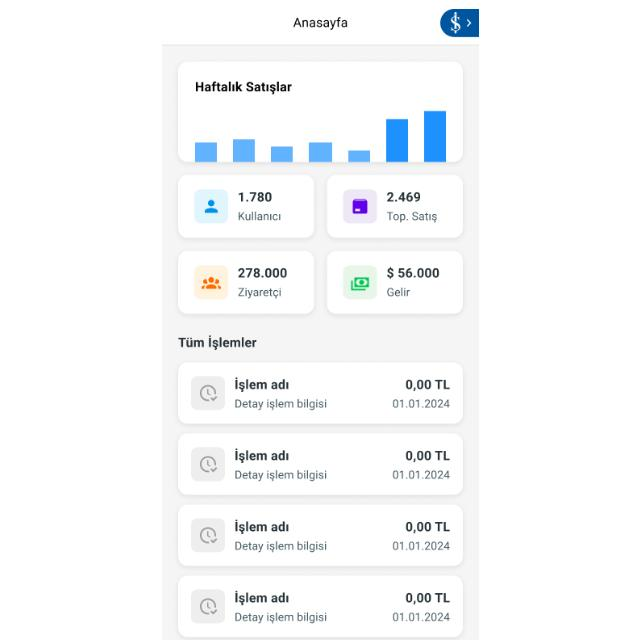QLabel: (176, 334, 258, 352), (231, 468, 329, 482), (284, 12, 352, 32), (231, 398, 329, 410), (231, 540, 329, 552), (232, 612, 330, 624), (230, 378, 290, 392), (386, 208, 438, 224), (232, 448, 290, 462), (402, 376, 452, 392), (233, 519, 289, 533), (233, 590, 289, 604), (392, 540, 451, 552), (392, 398, 450, 409), (390, 470, 450, 480), (391, 612, 451, 622), (235, 287, 283, 299), (404, 592, 451, 604), (235, 190, 273, 204), (388, 268, 440, 278), (237, 268, 287, 278), (235, 211, 282, 221), (404, 450, 451, 460), (404, 522, 451, 532), (386, 192, 420, 202), (385, 288, 411, 298)
VAppBar: (162, 1, 478, 45)
VCard: (177, 504, 466, 570), (177, 574, 466, 640), (176, 360, 464, 426), (174, 434, 466, 498), (324, 166, 464, 248), (325, 250, 463, 316), (178, 174, 314, 238), (177, 252, 313, 316)
VImg: (176, 60, 464, 162), (342, 188, 378, 224), (190, 376, 226, 410), (190, 446, 224, 482), (190, 518, 224, 554), (193, 264, 227, 300), (190, 590, 224, 624), (193, 189, 227, 223), (440, 8, 478, 38), (342, 266, 376, 298)
